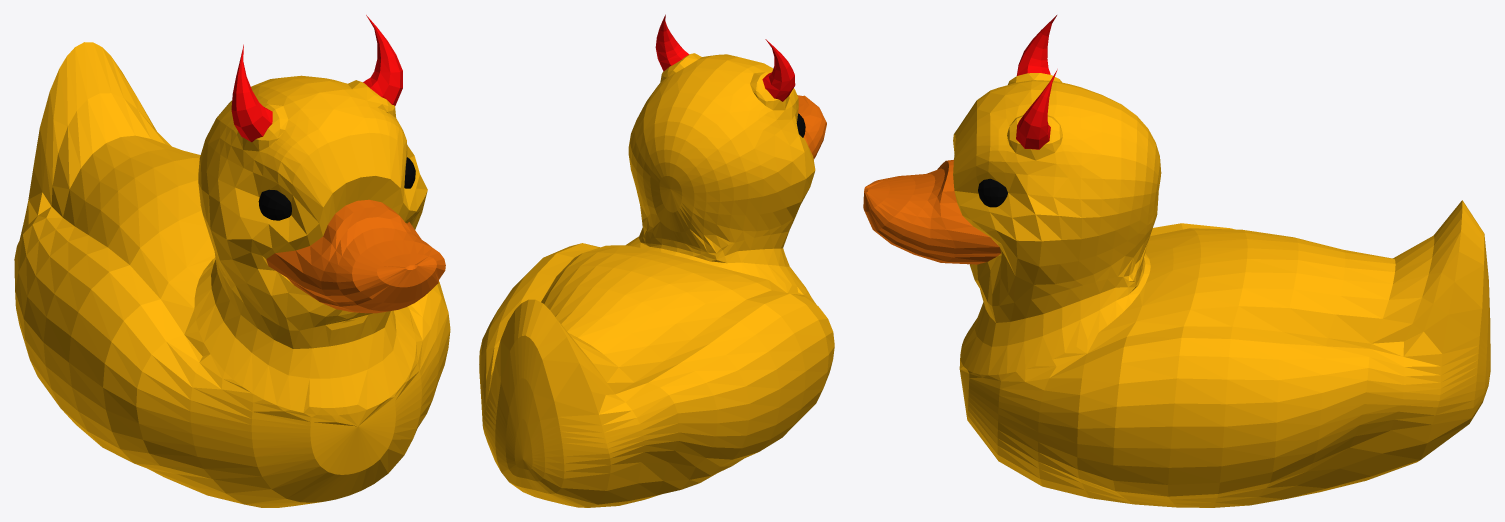
The model's file is devilduk.obj.
3 views of the same model, side by side, from view 1: azimuth 30°, elevation 25°; view 2: azimuth 150°, elevation 25°; view 3: azimuth 270°, elevation 25° (orthographic). The views are drawn at different scales.
Parts seen in each view (by area): view 1: skin, bill, ducky, eyes; view 2: skin, ducky, bill; view 3: skin, bill, ducky.
Part boxes in pixels (<box>): skin: <box>14,42,450,507</box>; bill: <box>266,199,445,313</box>; ducky: <box>231,15,402,142</box>; eyes: <box>258,157,415,220</box>; skin: <box>479,53,834,507</box>; ducky: <box>655,14,795,101</box>; bill: <box>797,95,826,159</box>; skin: <box>953,73,1490,507</box>; bill: <box>863,159,1001,264</box>; ducky: <box>1016,15,1057,149</box>.
Bounding box in the file's own units: 0.2689 × 0.3569 × 0.4603.
